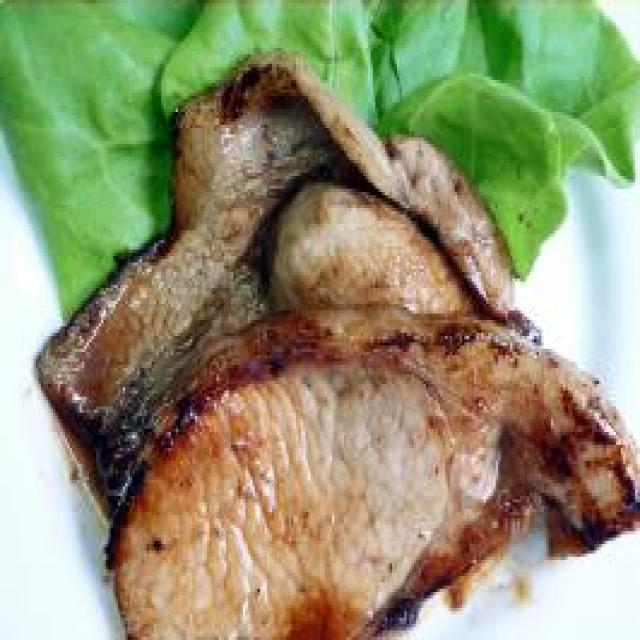猪肉菜式: (33, 57, 640, 640)
